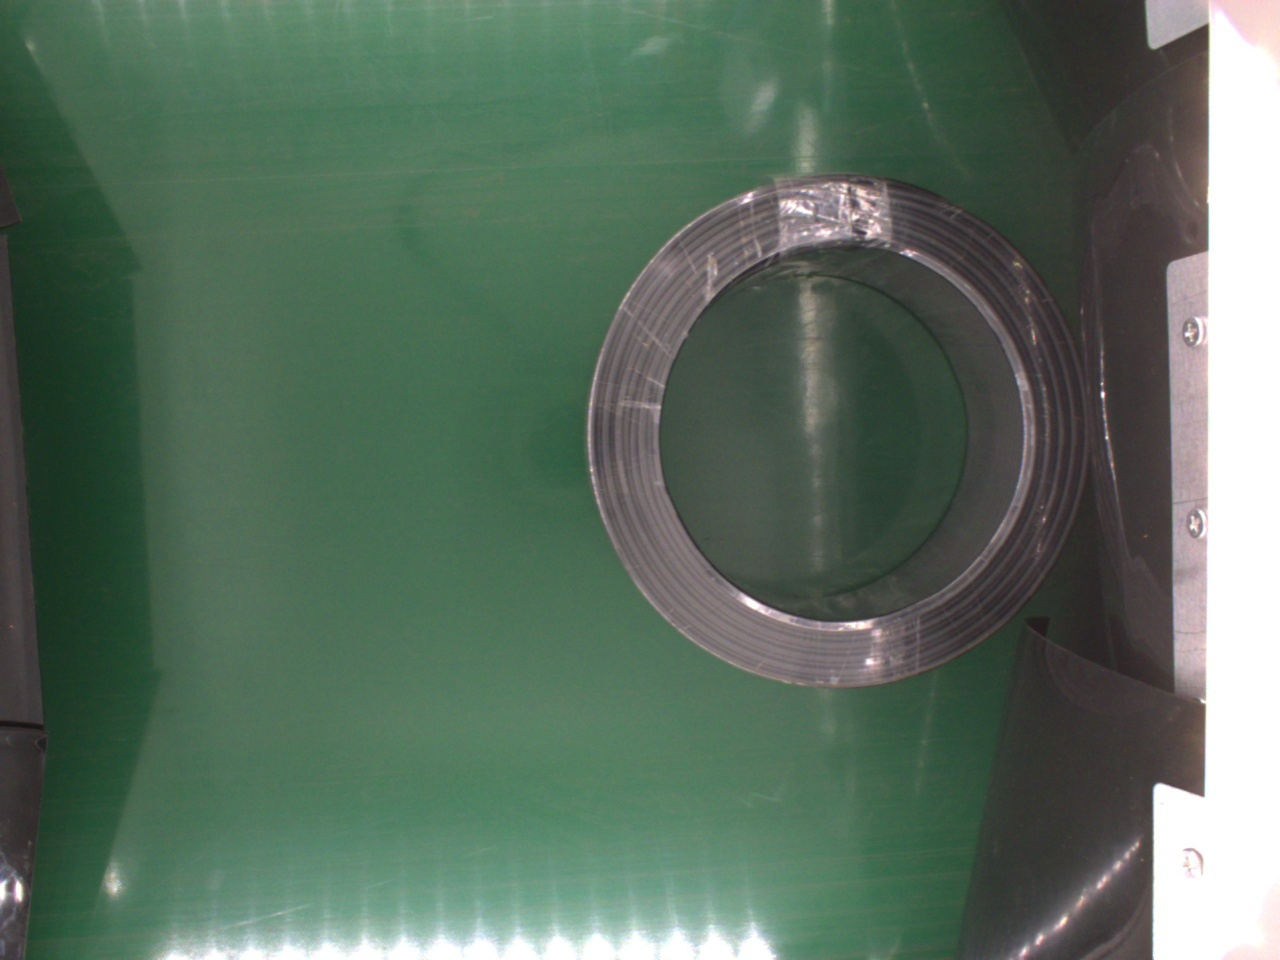black: (588, 171, 1090, 688)
